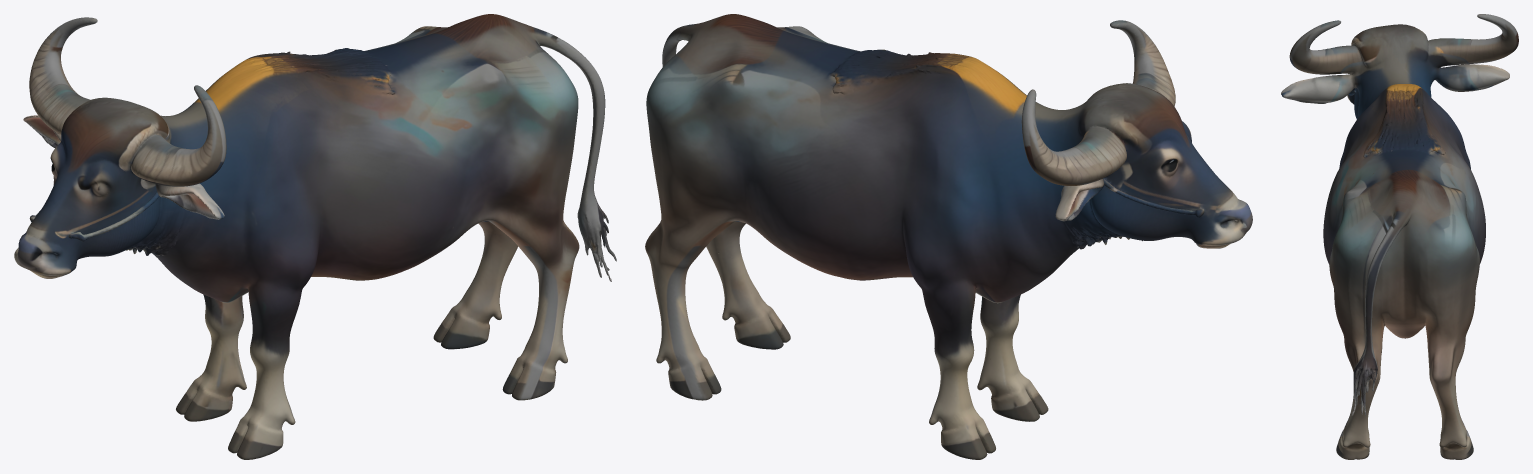
File: buffalo_A_h25.glb
3 views of the same model, side by side, from view 1: azimuth 30°, elevation 25°; view 2: azimuth 150°, elevation 25°; view 3: azimuth 270°, elevation 25° (orthographic). The views are drawn at different scales.
Visible parts, largest first — view 1: tripo_node_a9492863-0513-48a4-9de5-b49c53963f4f; view 2: tripo_node_a9492863-0513-48a4-9de5-b49c53963f4f; view 3: tripo_node_a9492863-0513-48a4-9de5-b49c53963f4f.
Part boxes in pixels (x1,y1,x2,y2): tripo_node_a9492863-0513-48a4-9de5-b49c53963f4f: [14, 14, 616, 459]; tripo_node_a9492863-0513-48a4-9de5-b49c53963f4f: [645, 14, 1252, 459]; tripo_node_a9492863-0513-48a4-9de5-b49c53963f4f: [1281, 14, 1518, 459].
Bounding box in the file's own units: 1 × 0.6474 × 0.4545.
Materials: 1 (1 with a texture image).
